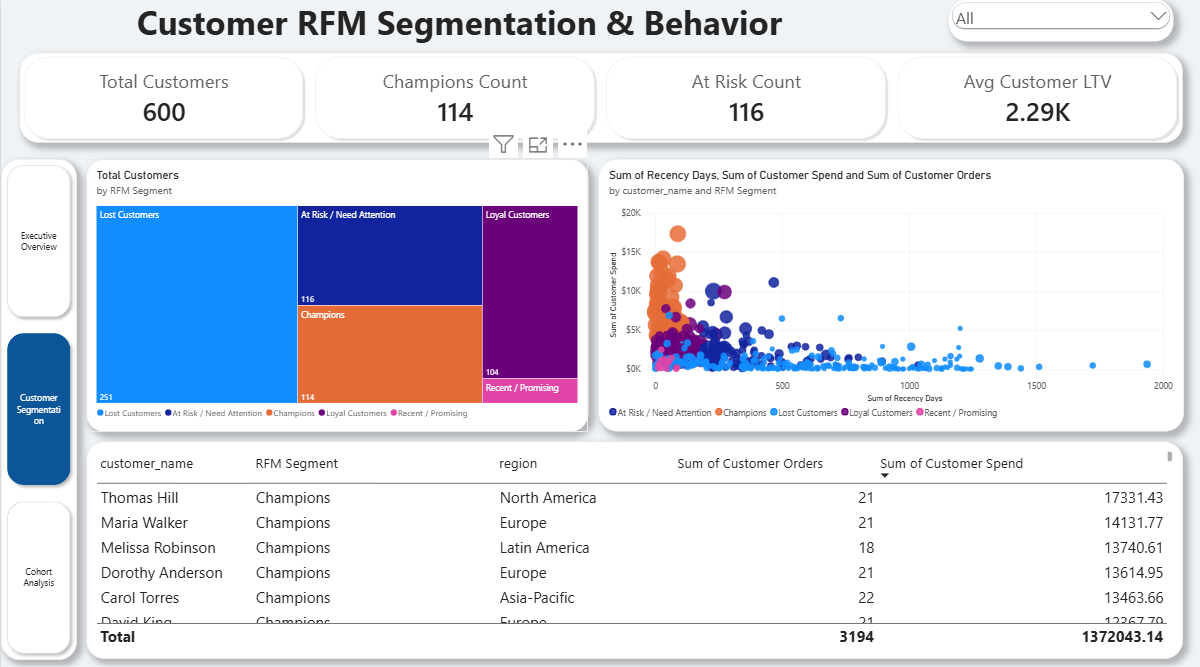

Layout of this report page (visuals, bound fields, positions):
{"tool":"powerbi","page":{"name":"Customer Segmentation","canvas":[1920,1080],"ordinal":1},"visuals":[{"type":"cardVisual","fields":{"Data":["_Measures.Total Customers","_Measures.Champions Count","_Measures.At Risk Count","_Measures.Avg Customer LTV"]},"box":[30.9,86.5,1860.7,144.2],"z":0},{"type":"treemap","fields":{"Group":["dim_customers.RFM Segment"],"Values":["_Measures.Total Customers"]},"box":[136,255.5,803.6,436.8],"z":1000},{"type":"scatterChart","fields":{"Category":["dim_customers.customer_name"],"Series":["dim_customers.RFM Segment"],"Size":["Sum(dim_customers.Customer Orders)"],"X":["Sum(dim_customers.Recency Days)"],"Y":["Sum(dim_customers.Customer Spend)"]},"box":[955.1,255.2,936.5,436.4],"z":2000},{"type":"tableEx","fields":{"Values":["dim_customers.customer_name","dim_customers.RFM Segment","dim_customers.region","Sum(dim_customers.Customer Orders)","Sum(dim_customers.Customer Spend)"]},"box":[136,708.8,1755.6,348.2],"z":3000},{"type":"slicer","fields":{"Values":["dim_customers.RFM Segment"]},"box":[1517,0,360.2,67.9],"z":4000},{"type":"textbox","box":[30.9,0,1407.3,86.5],"z":4001},{"type":"pageNavigator","box":[0,255.5,121.6,801.5],"z":4002}]}

Visuals, with their boxes on the page's 1920x1080 design canvas (x1, y1, x2, y2). These are canvas units, not pixel positions in the 1200x667 screenshot, which may show the page scaled, cropped or inside an application window:
cardVisual - _Measures.Total Customers x _Measures.Champions Count: detection(31, 86, 1892, 231)
treemap - dim_customers.RFM Segment x _Measures.Total Customers: detection(136, 256, 940, 692)
scatterChart - dim_customers.customer_name x dim_customers.RFM Segment: detection(955, 255, 1892, 692)
tableEx - dim_customers.customer_name x dim_customers.RFM Segment: detection(136, 709, 1892, 1057)
slicer - dim_customers.RFM Segment: detection(1517, 0, 1877, 68)
textbox: detection(31, 0, 1438, 86)
pageNavigator: detection(0, 256, 122, 1057)
